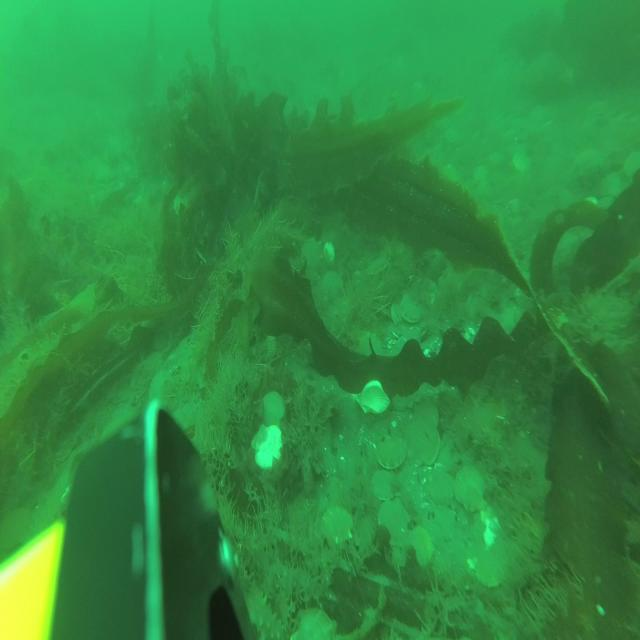holothurian: (240, 572, 285, 640)
scallop: (291, 602, 340, 640), (472, 542, 510, 590), (318, 503, 356, 550), (248, 422, 285, 470), (454, 463, 488, 513), (378, 497, 412, 547), (354, 379, 392, 422), (411, 422, 442, 466), (259, 387, 288, 431), (406, 525, 434, 569), (372, 468, 402, 504), (377, 433, 406, 470), (147, 366, 175, 404), (399, 291, 427, 325), (415, 400, 440, 433), (260, 329, 278, 369), (367, 252, 389, 280), (322, 270, 344, 297), (510, 151, 532, 173), (390, 301, 404, 325)
